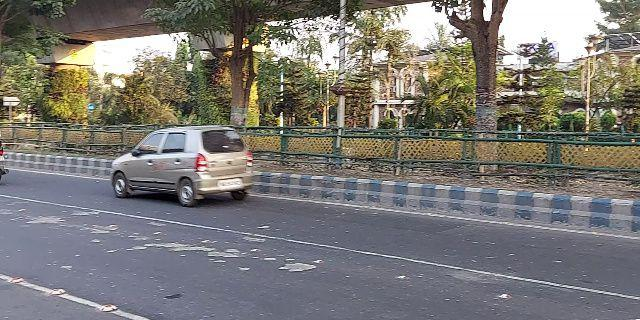Car: (106, 123, 257, 207)
